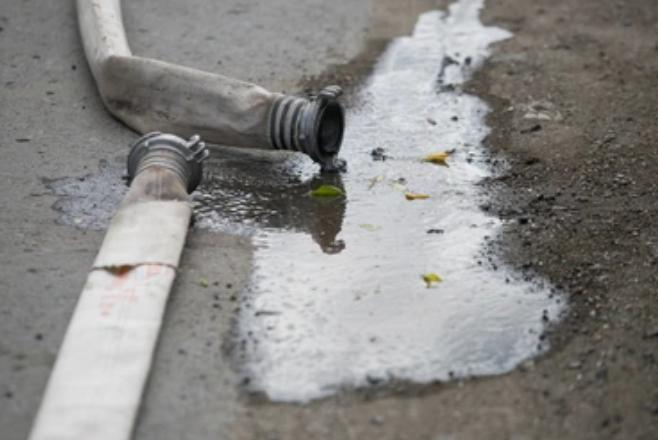water accumulation: (42, 0, 570, 403)
